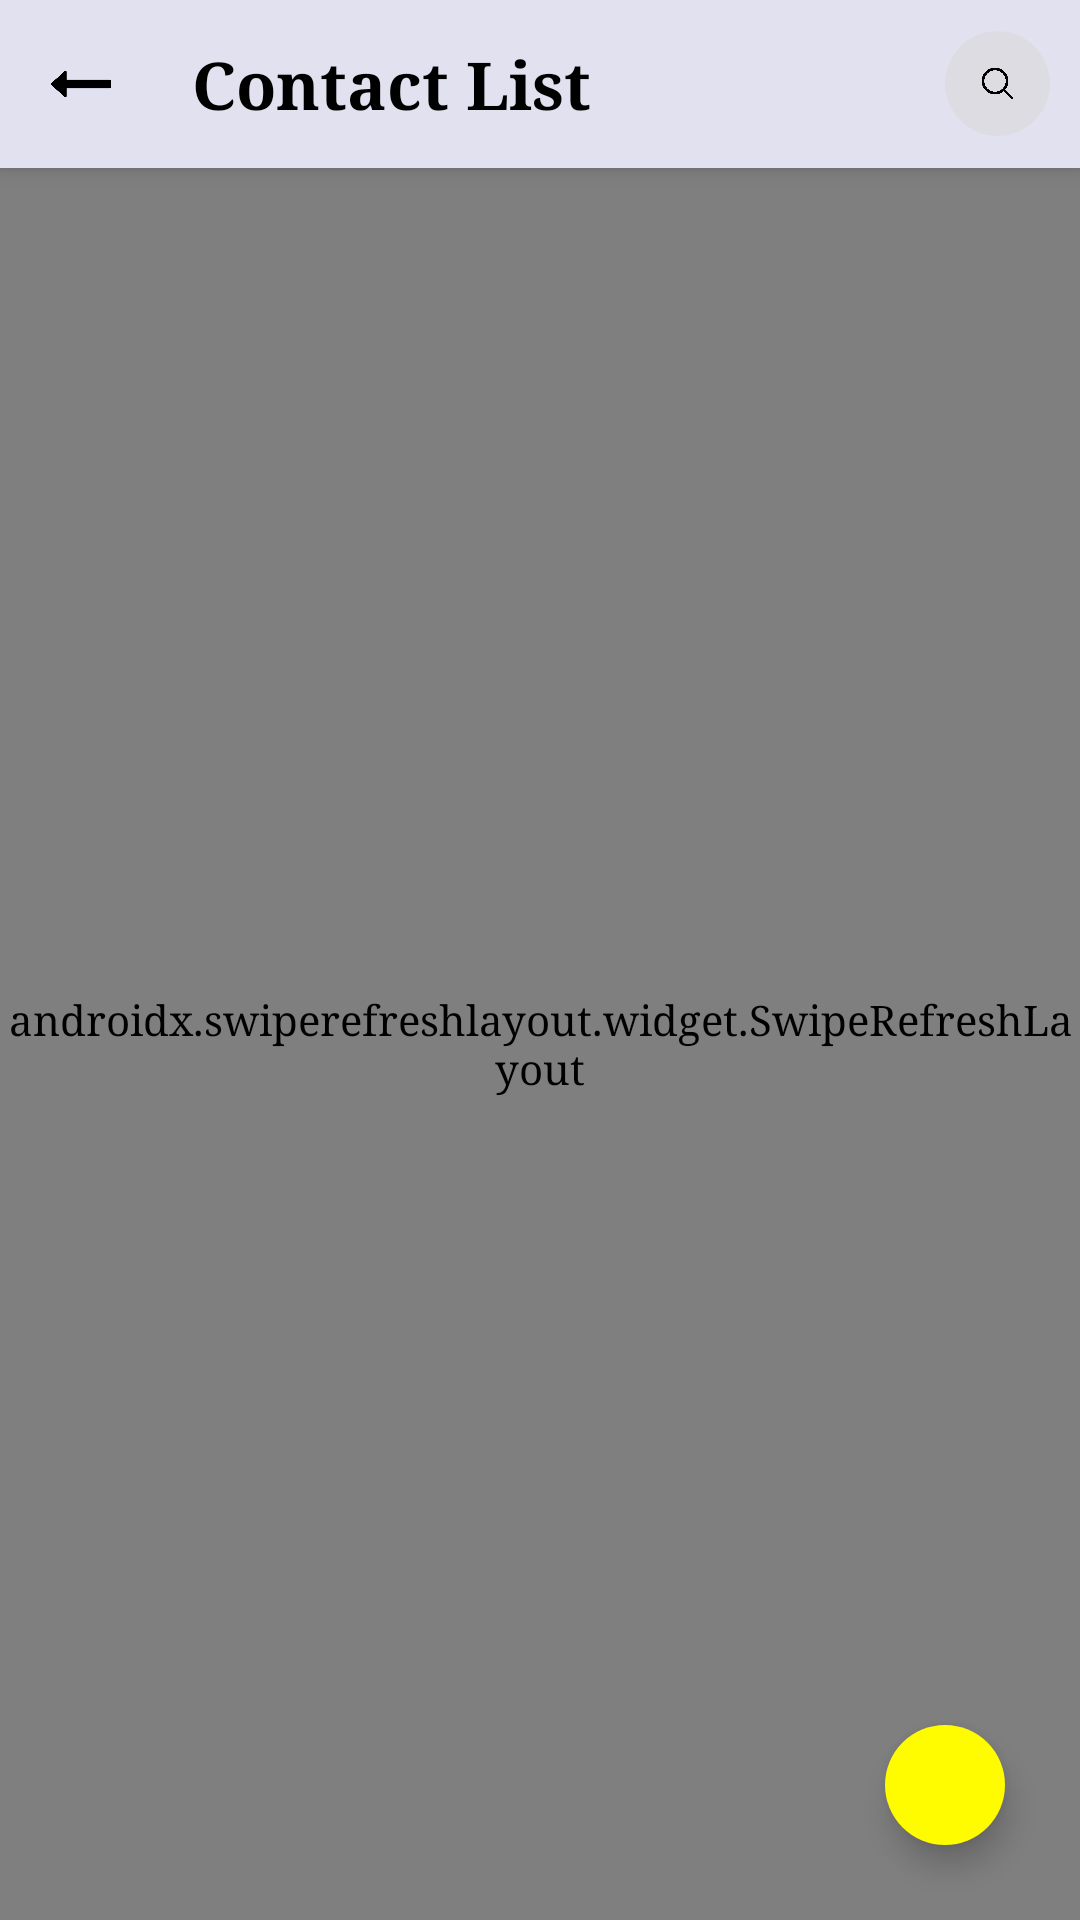

Icon bounding boxes for this 1080x1920 phone screenshot, format (x1, y1, x2, y2):
back arrow: (51, 71, 111, 97)
search: (945, 31, 1050, 136)
